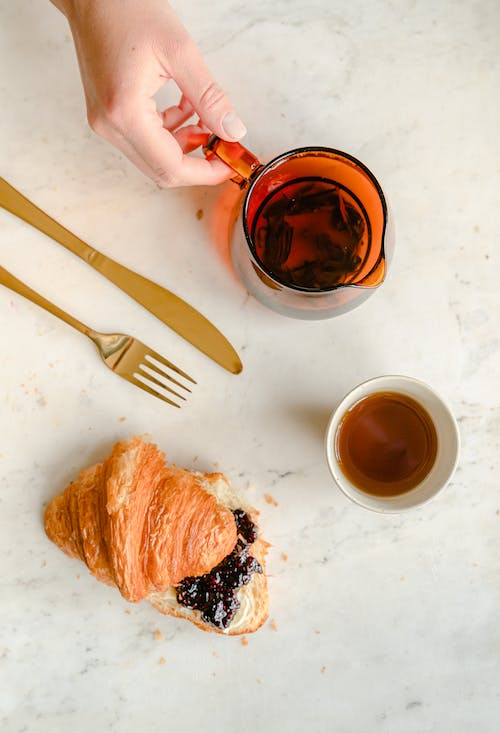knife: (0, 173, 244, 376)
